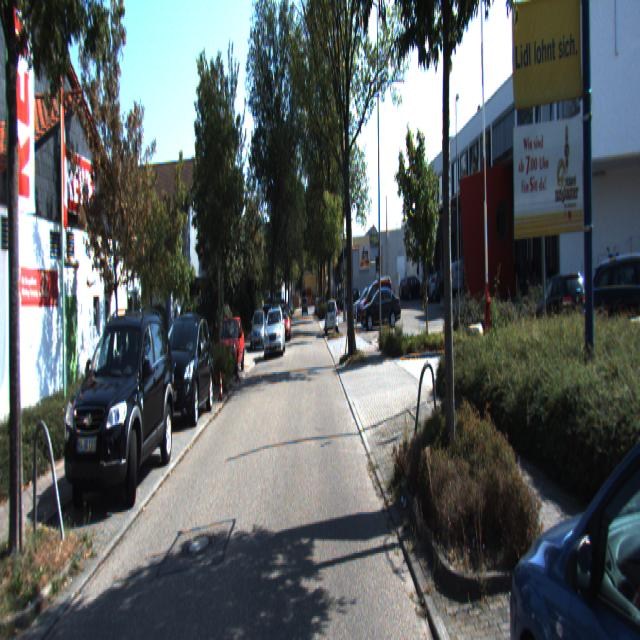Car: (512, 312, 640, 638), (62, 309, 178, 521), (154, 310, 215, 430), (214, 316, 245, 382), (360, 286, 402, 328), (263, 307, 286, 357), (325, 299, 339, 338)
DontCare: (539, 245, 639, 316), (403, 263, 442, 310), (287, 292, 321, 332), (248, 297, 268, 363), (348, 276, 362, 334)
Van: (446, 257, 486, 306)
